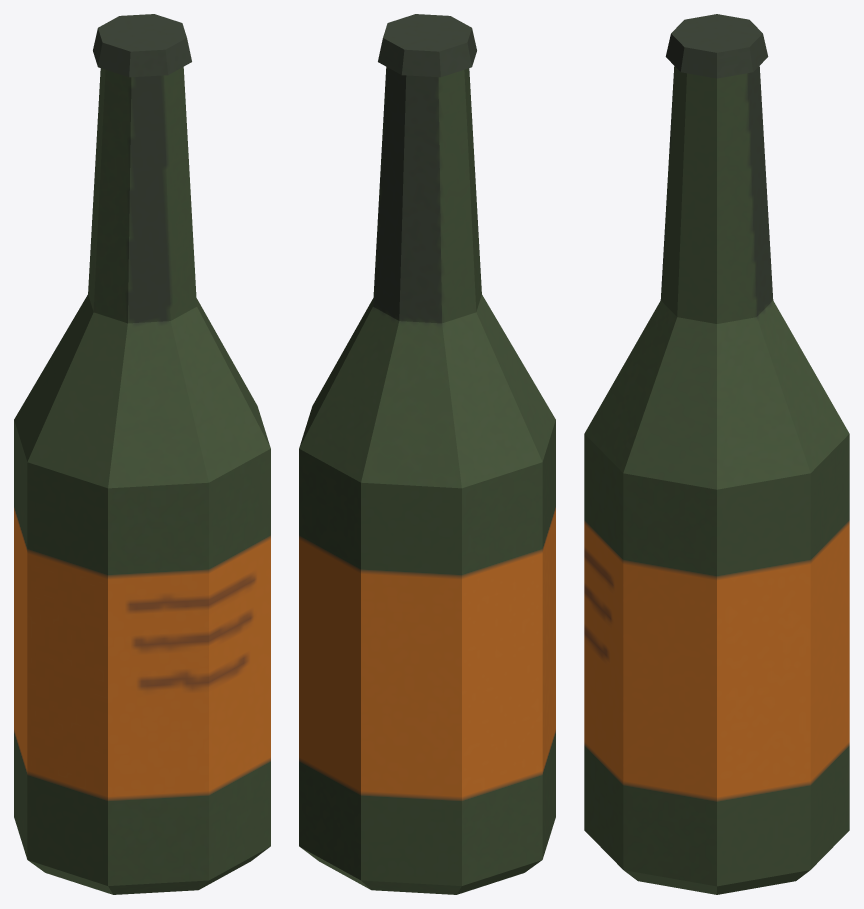
Rendered from SM_Food_05.fbx.
3 renders of one model, left to right at view 1: azimuth 30°, elevation 25°; view 2: azimuth 150°, elevation 25°; view 3: azimuth 270°, elevation 25°, orthographic.
Parts seen in each view (by area): view 1: SM_Food_05; view 2: SM_Food_05; view 3: SM_Food_05.
Boxes of the visible parts, bbox=[...] form: SM_Food_05: bbox=[14, 14, 270, 894]; SM_Food_05: bbox=[299, 14, 555, 894]; SM_Food_05: bbox=[584, 14, 849, 894].
Size of the model in its own units: 8.05 by 27.28 by 8.05.
